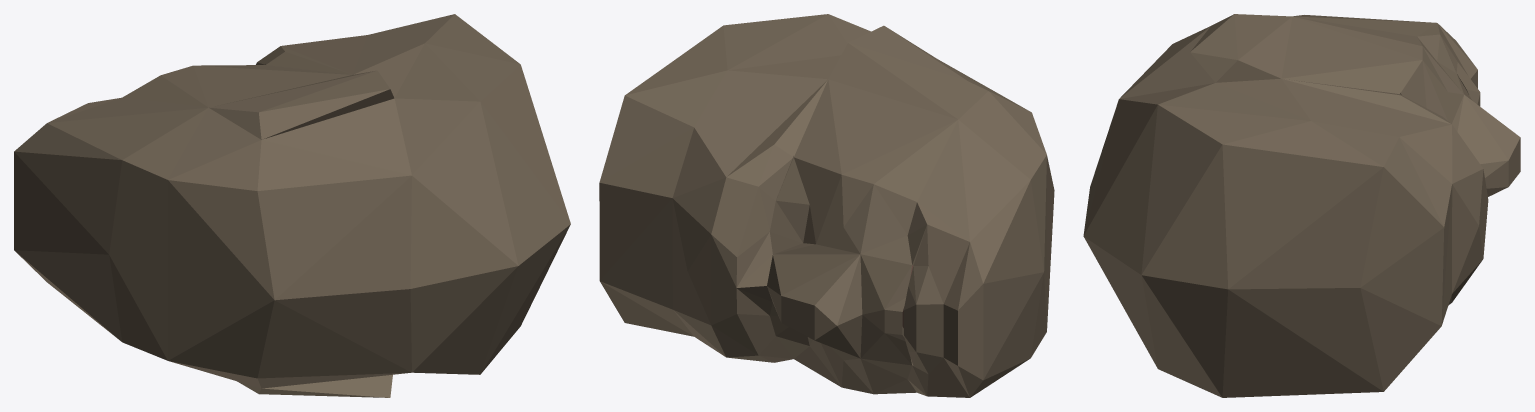
File: HUM_HEAD_FIGHTER.OBJ
3 renders of one model, left to right at view 1: azimuth 30°, elevation 25°; view 2: azimuth 150°, elevation 25°; view 3: azimuth 270°, elevation 25°, orthographic. The views are drawn at different scales.
Parts seen in each view (by area): view 1: HUM_HEAD_FIGHTER; view 2: HUM_HEAD_FIGHTER; view 3: HUM_HEAD_FIGHTER.
Part boxes in pixels (box(x1,y1,x2,y2)): HUM_HEAD_FIGHTER: box(14, 14, 570, 397); HUM_HEAD_FIGHTER: box(599, 14, 1054, 397); HUM_HEAD_FIGHTER: box(1083, 14, 1520, 397).
Size of the model in its own units: 0.2599 by 0.1808 by 0.2394.
